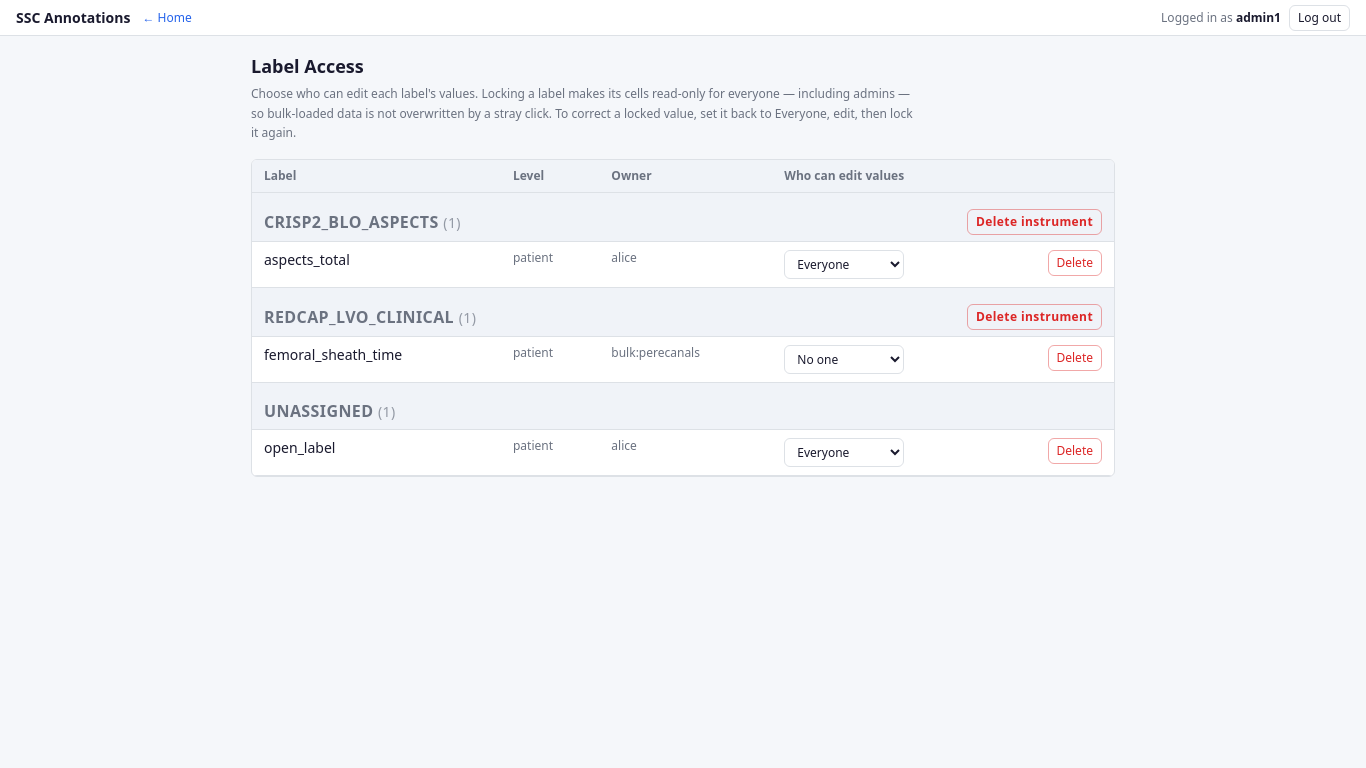
Test: AdminLabels page › reverts and surfaces the error when the save fails
This screenshot has width=1366, height=768.
Check: the text "open_label" is shown, box [264,438,335,456]
Select "No one" in the dropdown named "Who can edit open_label": (844, 452) [784,438,904,466]
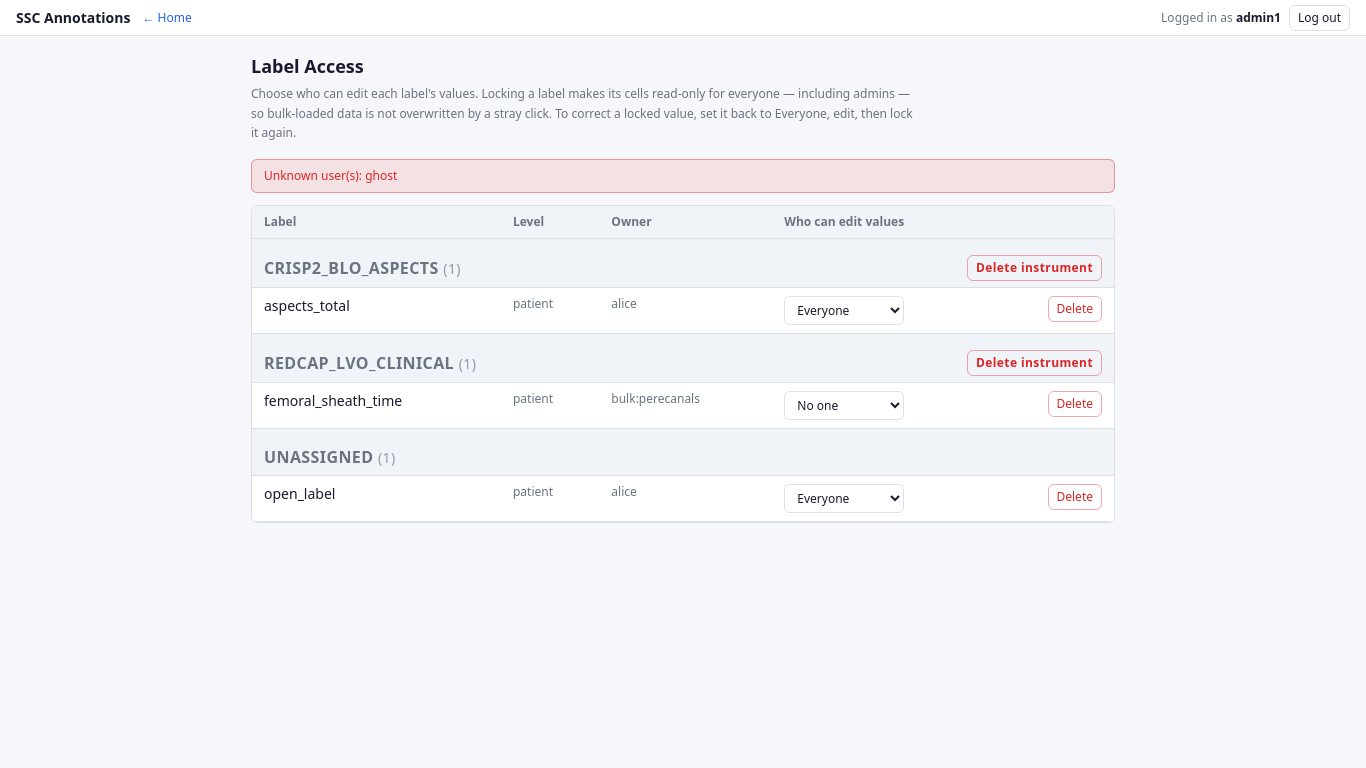
Check: the text "Unknown user(s): ghost" is shown, box [251,158,1115,192]
